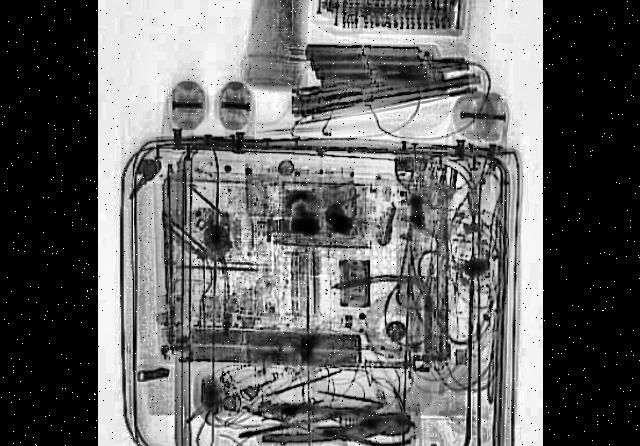Pliers: (256, 401, 412, 446), (319, 412, 408, 446)
